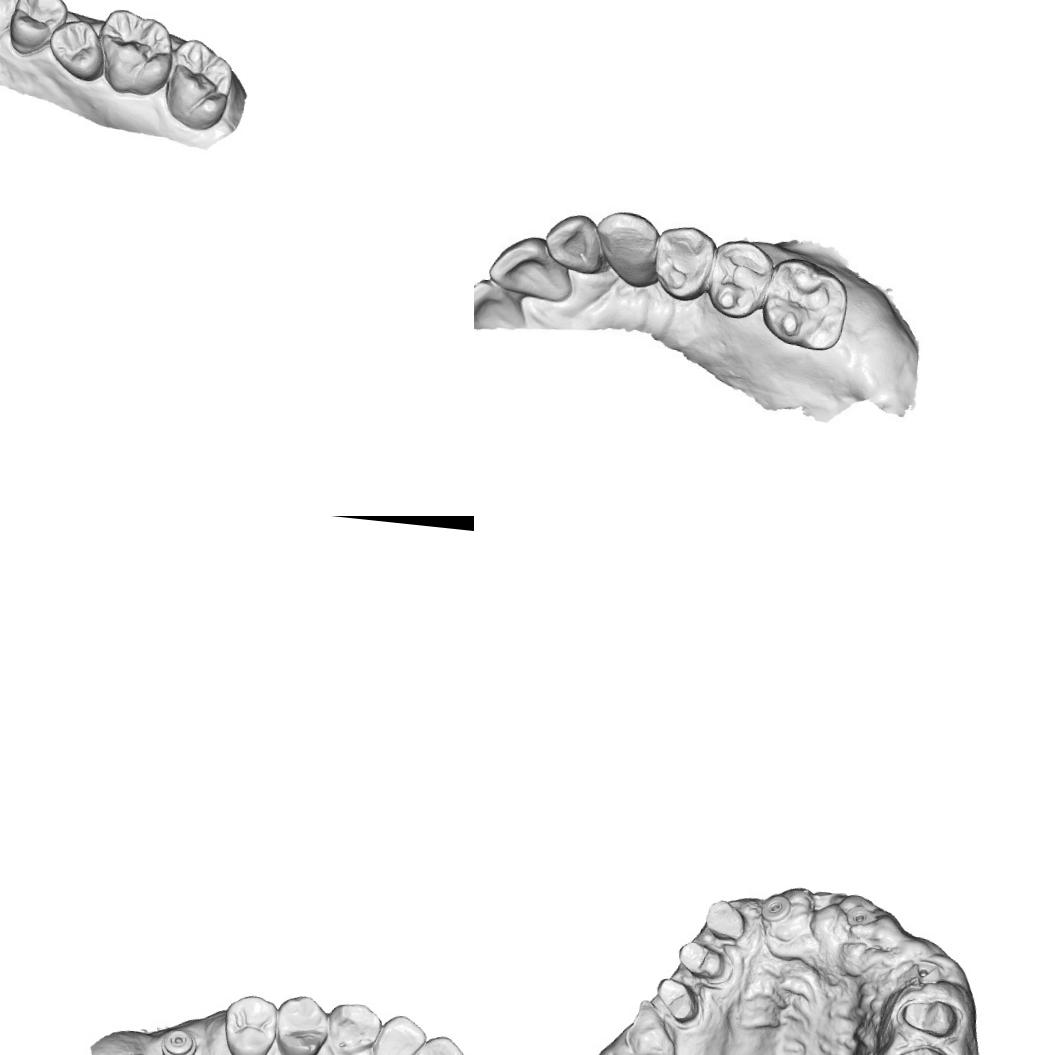canine: (595, 212, 667, 293), (325, 998, 385, 1055), (0, 0, 23, 41)
crown: (898, 996, 964, 1040), (652, 976, 707, 1026), (676, 939, 727, 981), (703, 897, 749, 943), (891, 1041, 952, 1055)
implant: (758, 891, 793, 925), (843, 901, 881, 928)
implant_minus: (158, 1025, 200, 1055)
incisor: (488, 235, 575, 303), (546, 214, 604, 274), (367, 1010, 430, 1055), (399, 1029, 474, 1055)
molar: (762, 258, 848, 349), (94, 5, 178, 98), (160, 36, 238, 134), (707, 238, 773, 314)
premolar: (650, 223, 711, 300), (44, 16, 109, 84), (217, 991, 282, 1055), (271, 991, 333, 1055), (6, 0, 71, 59)
